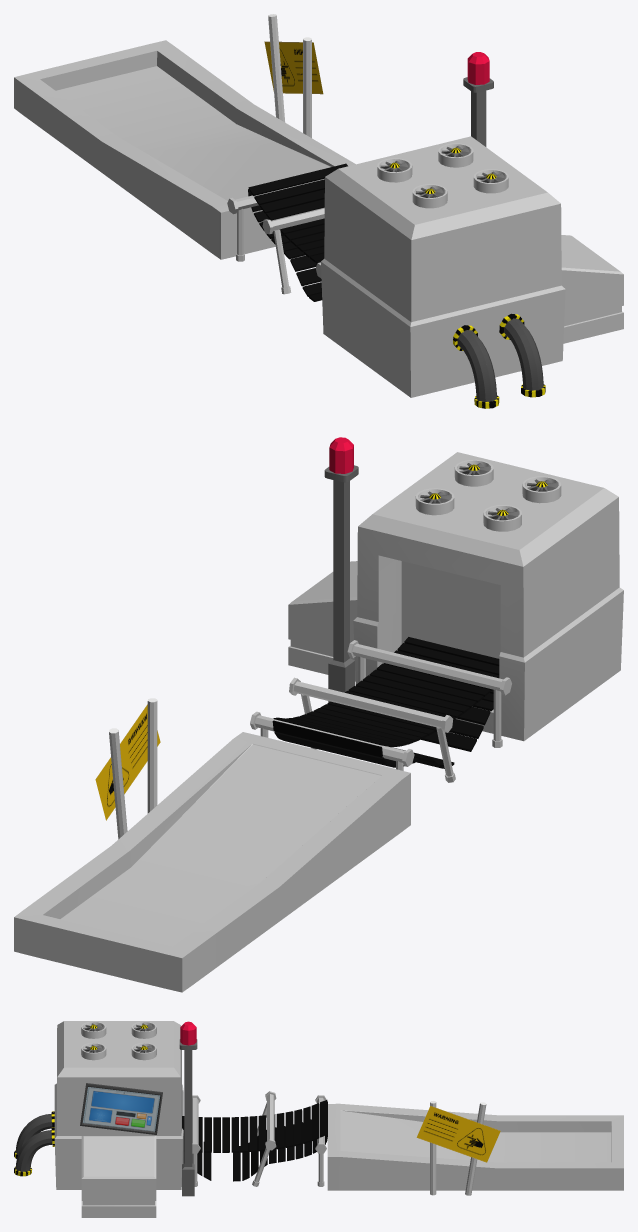
File: Warehouse_Wreck (1).dae
3 renders of one model, top to bottom at view 1: azimuth 30°, elevation 25°; view 2: azimuth 150°, elevation 25°; view 3: azimuth 270°, elevation 25°, orthographic. The views are drawn at different scales.
Visible parts, largest first — view 1: Main Component, Misc Component, Cube, Light Component; view 2: Main Component, Cube, Misc Component, Light Component; view 3: Main Component, Misc Component, Cube, Light Component.
Boxes of the visible parts, box(x1,y1,x2,y2) form: Main Component: box(14, 40, 623, 397); Misc Component: box(264, 14, 545, 408); Cube: box(248, 163, 347, 301); Light Component: box(467, 52, 489, 84); Main Component: box(14, 452, 623, 992); Cube: box(272, 637, 499, 768); Misc Component: box(95, 459, 561, 839); Light Component: box(329, 437, 353, 473); Main Component: box(54, 1021, 623, 1217); Misc Component: box(14, 1021, 500, 1196); Cube: box(182, 1100, 327, 1181); Light Component: box(180, 1021, 196, 1045).
Size of the model in its own units: 3.04 by 9.66 by 2.99.
